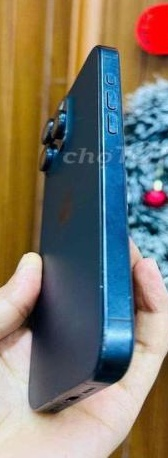scratch: (100, 342, 106, 356), (126, 295, 135, 301), (99, 281, 104, 289)
